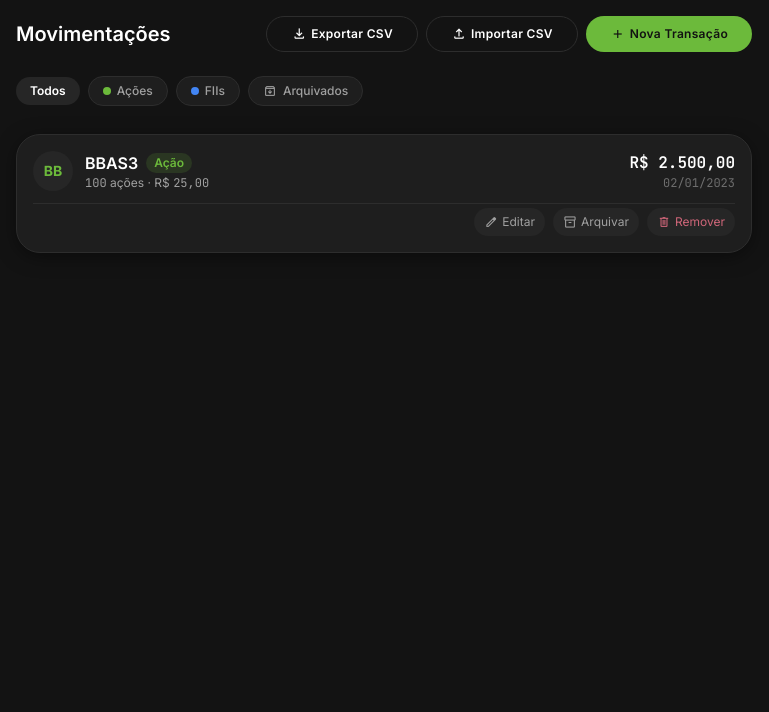
Test: Transactions — formulário e override manual › marcar o override envia ajustadaManualmente=true
The width and height of the screenshot is (769, 712).
Later steps or results of the test are not shown.
Click the button "Editar". click: coordinates (510, 222)
box: [474,208,545,236]
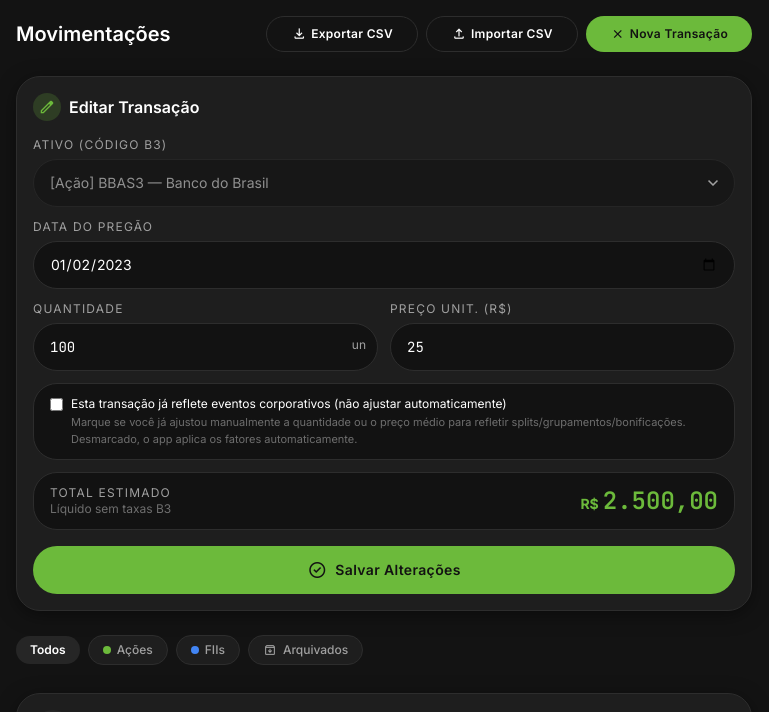
Click the checkbox. click: coordinates (56, 404)
box: [50,398,63,411]
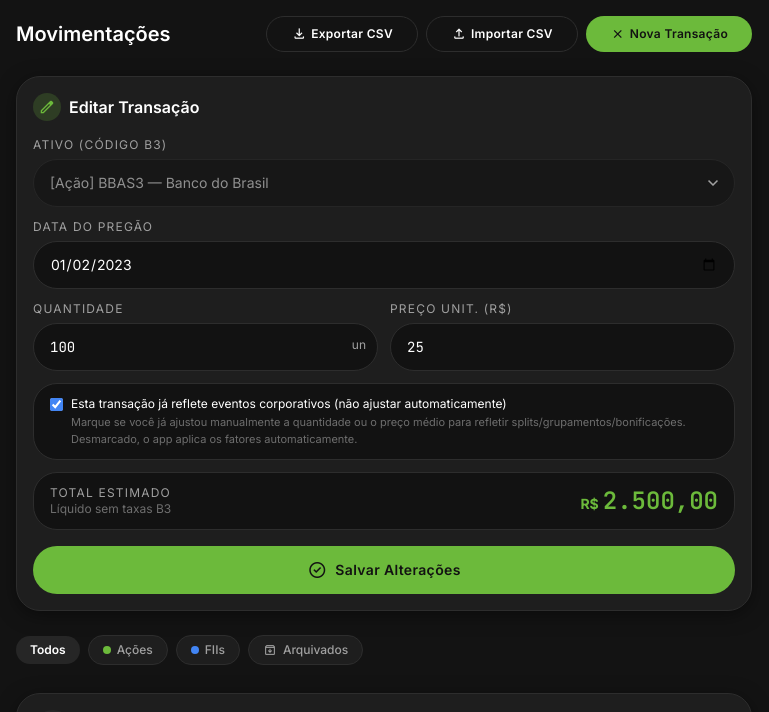
Now the checkbox is checked, box [50,398,63,411]
